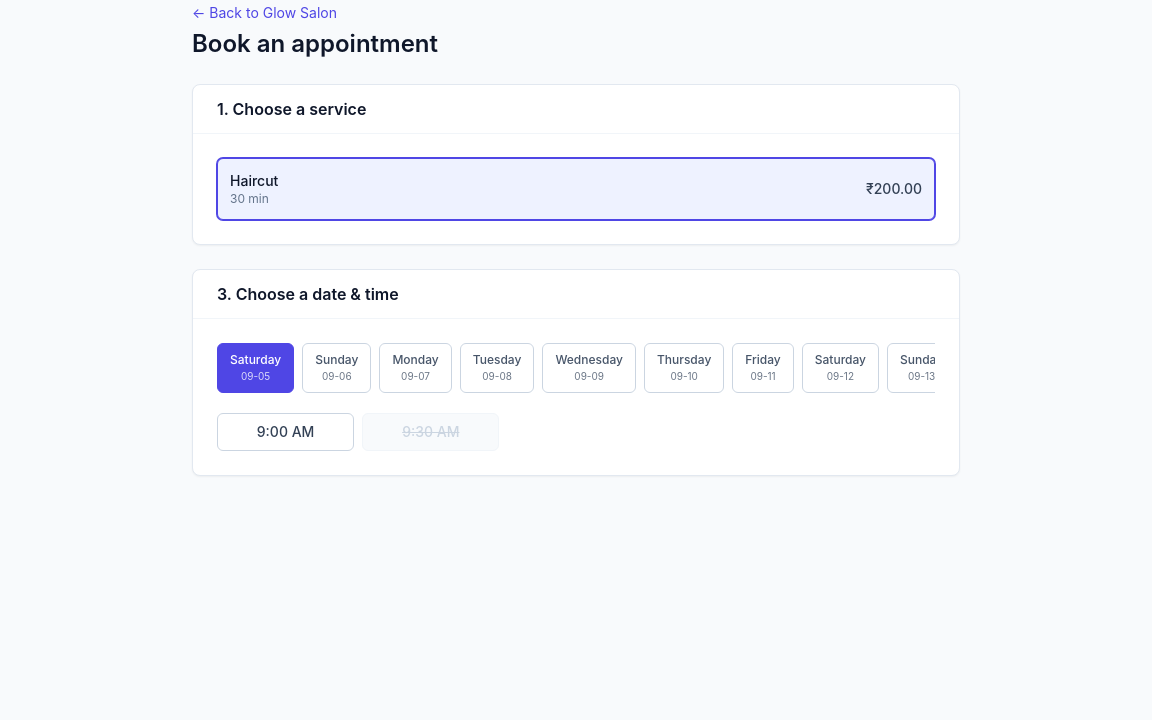
Scenario: BookingFlow — slot selection and confirmation › lets the customer pick an available slot and confirm the booking
Expected: the text "Haircut" is shown, [230,171,278,191]
Expected: the option "9:30 AM" is disabled, [362,413,499,451]
What coordinates should you click on to do the following:
click the option "9:00 AM"
I would click on:
 (286, 432)
Its box is [217,413,354,451].
(page scrolled)
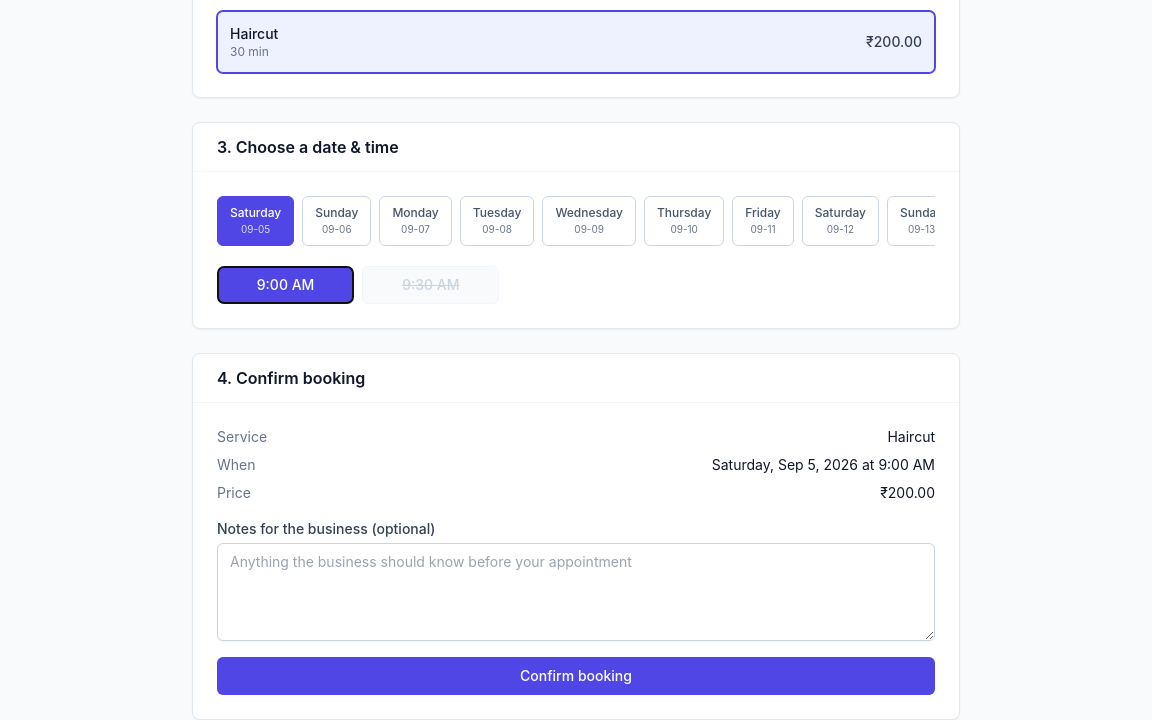
What coordinates should you click on to do the following:
click the button "Confirm booking"
I would click on:
 (576, 676)
Its box is [217,657,935,695].
(page scrolled)
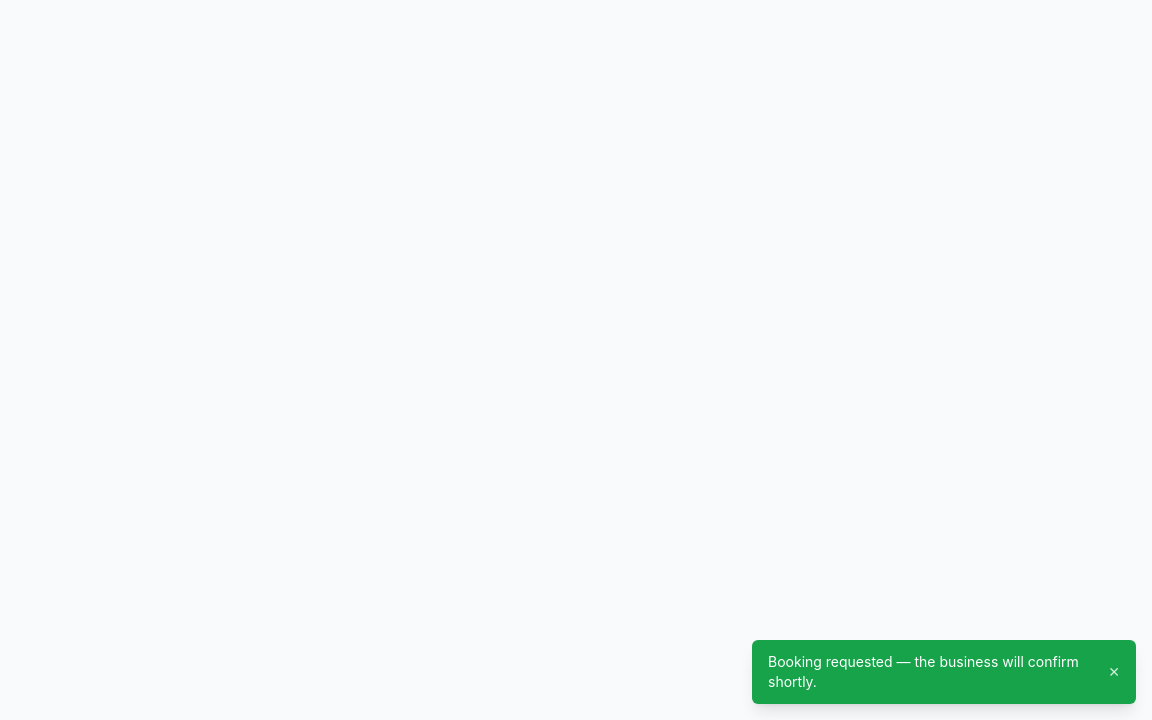
Now the text "Booking requested — the business will confirm shortly." is shown, box [768,652,1096,692]
